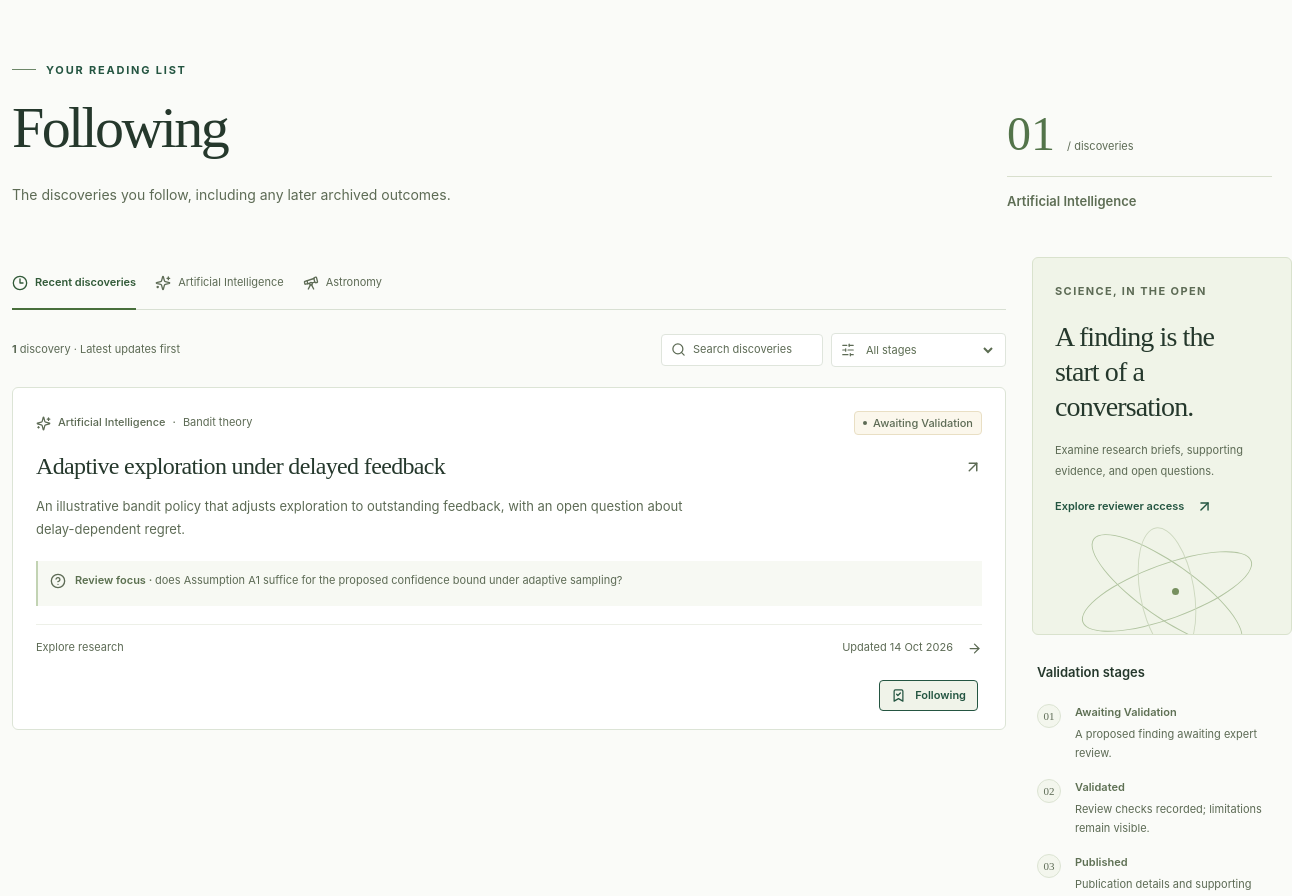
Test: Following research › does not remove a followed discovery when saving fails
Step 1. Click the button "Following" → (929, 695), box [879,680,978,710]
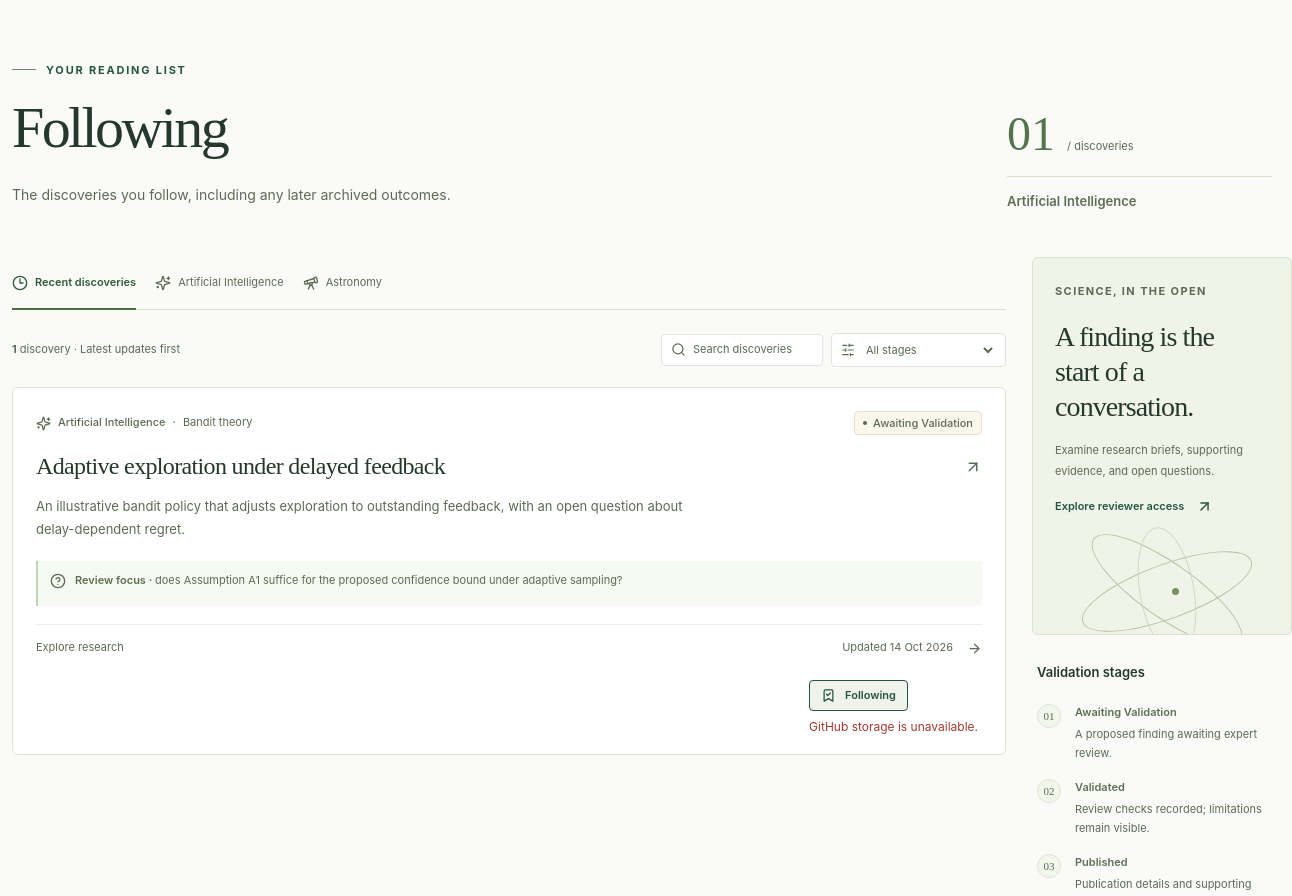
Expected: the heading "Adaptive exploration under delayed feedback" is shown, [36,452,982,483]
Expected: the message reads "GitHub storage is unavailable.", [809,718,978,734]
